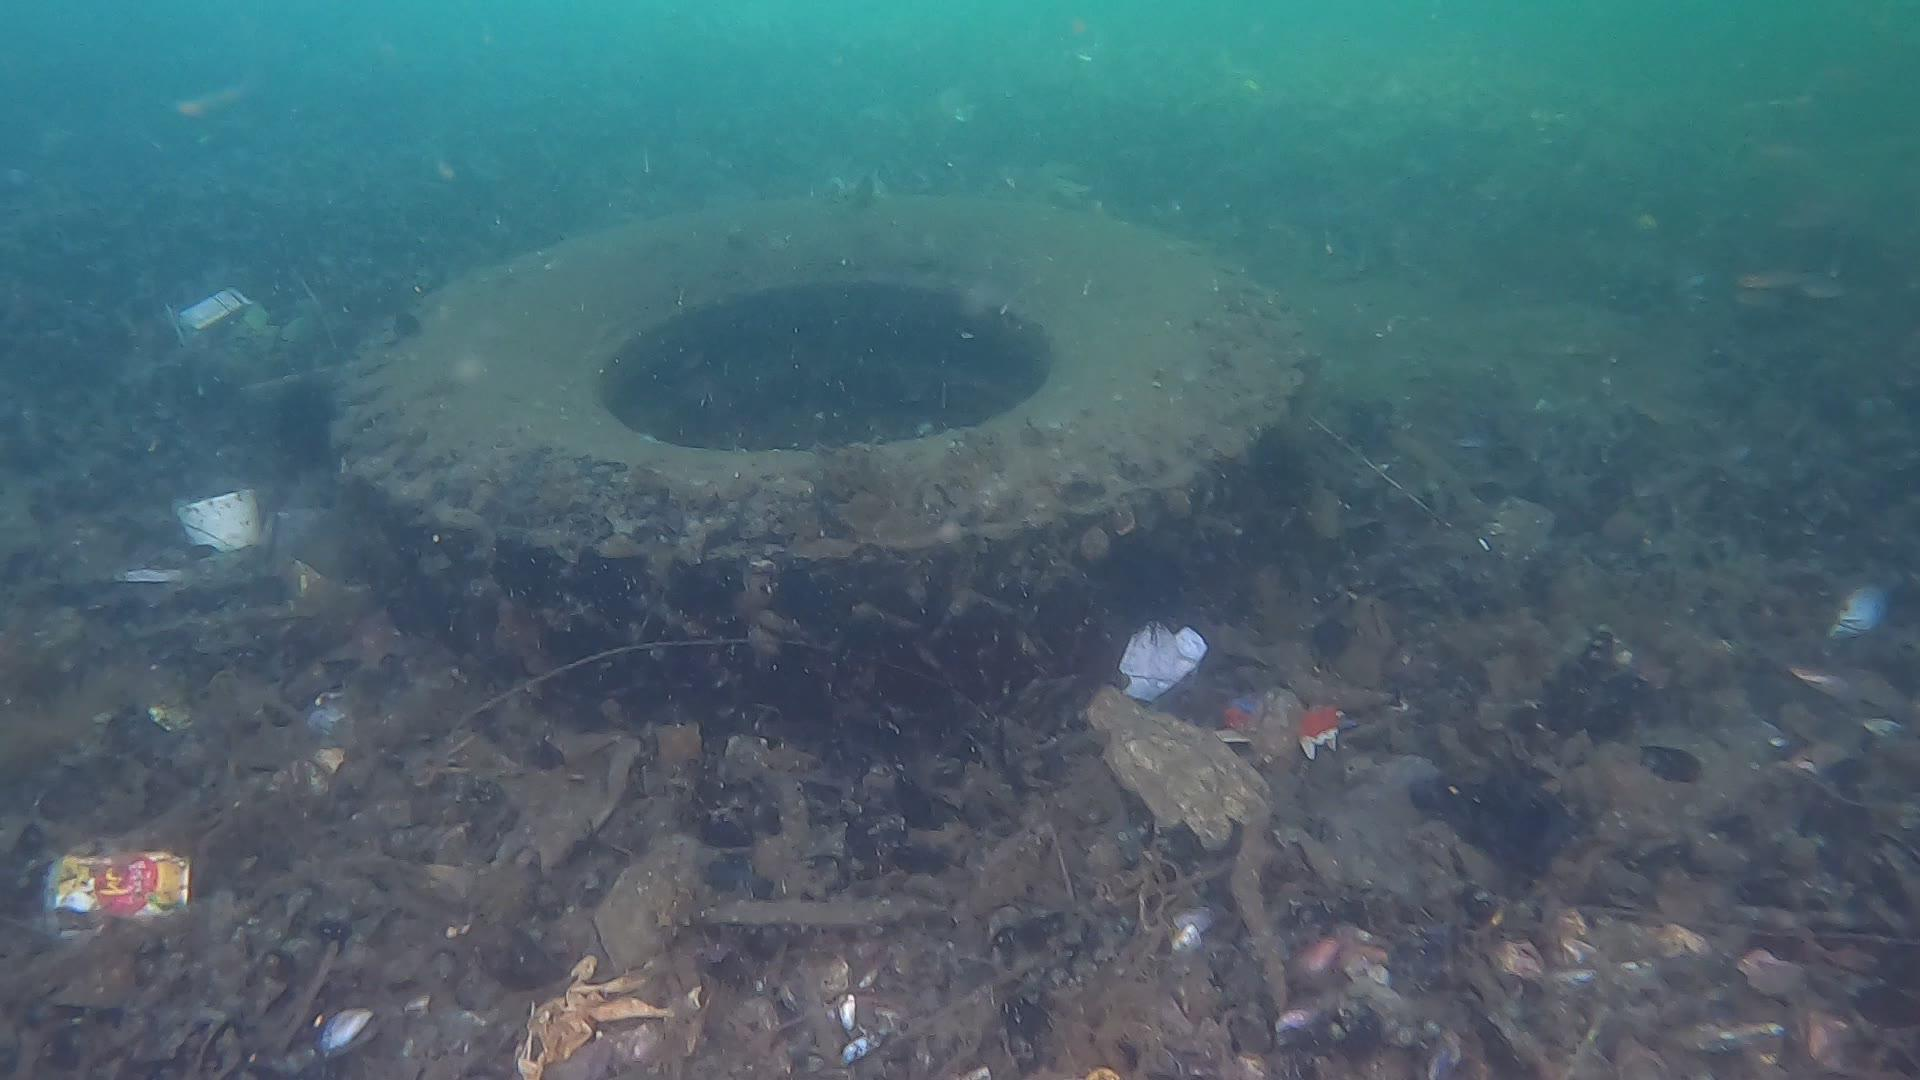tire: (334, 190, 1309, 711)
